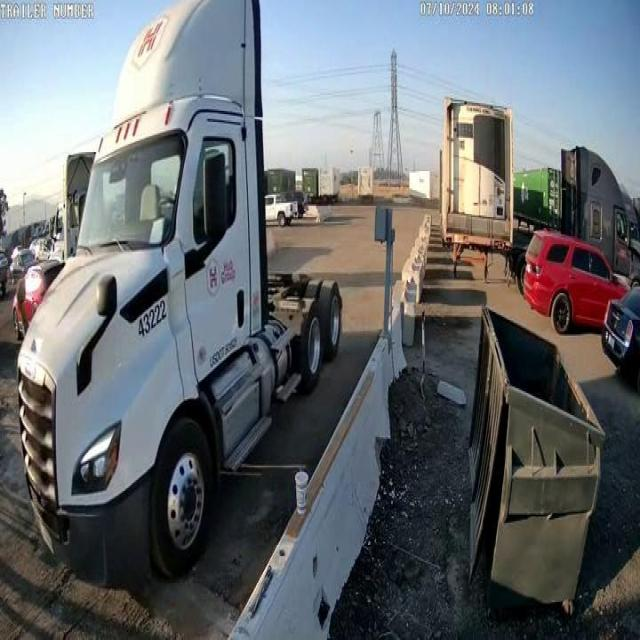TRUCK_OUT: (16, 0, 343, 586)
